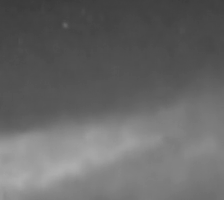Target: (64, 23, 67, 27)
